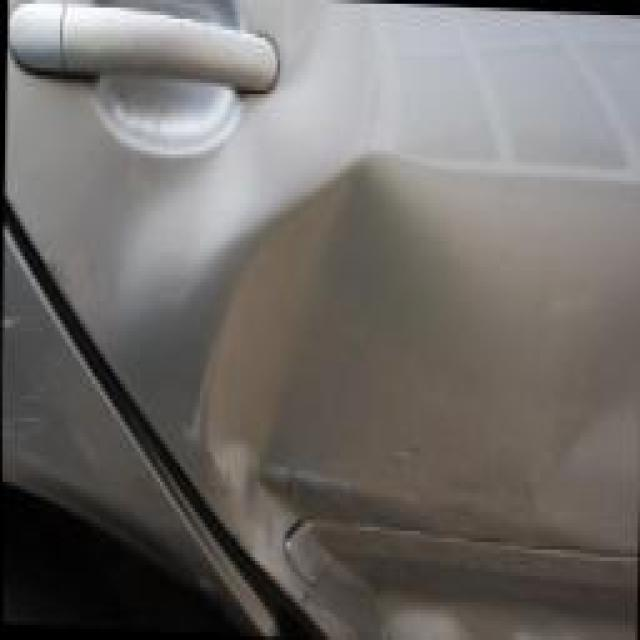Door: (148, 0, 640, 640)
